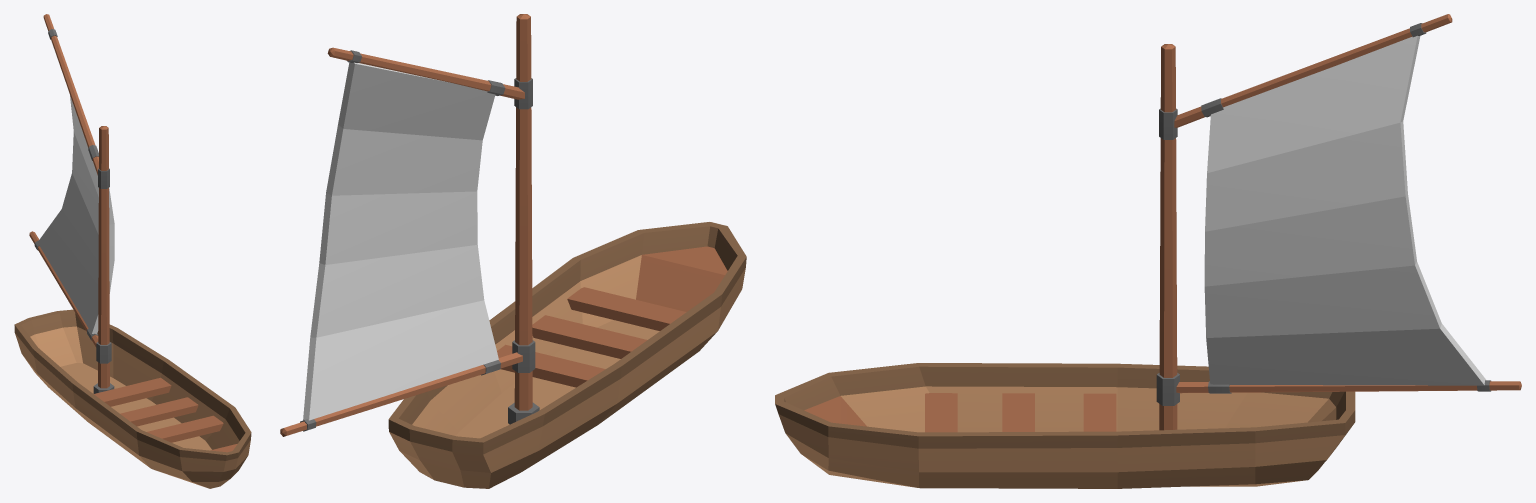
File: boat-1.glb
The picture shows the model from 3 angles, left to right: view 1: azimuth 30°, elevation 25°; view 2: azimuth 150°, elevation 25°; view 3: azimuth 270°, elevation 25°; orthographic projection. The views are drawn at different scales.
Parts seen in each view (by area): view 1: boat 1; view 2: boat 1; view 3: boat 1.
Part boxes in pixels (x1,y1,x2,y2): boat 1: (14,14,251,488); boat 1: (280,14,746,488); boat 1: (775,14,1521,488).
Bounding box in the file's own units: 2.03 × 6.07 × 8.31.
1 material, 1 textured.
